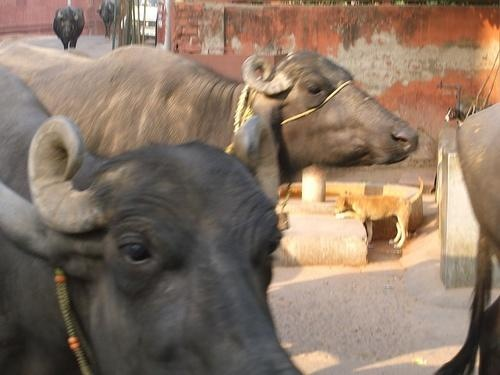cow: (1, 64, 302, 375), (1, 44, 419, 179), (442, 102, 500, 375), (53, 2, 87, 50), (97, 1, 118, 36)
dog: (336, 179, 426, 250)
